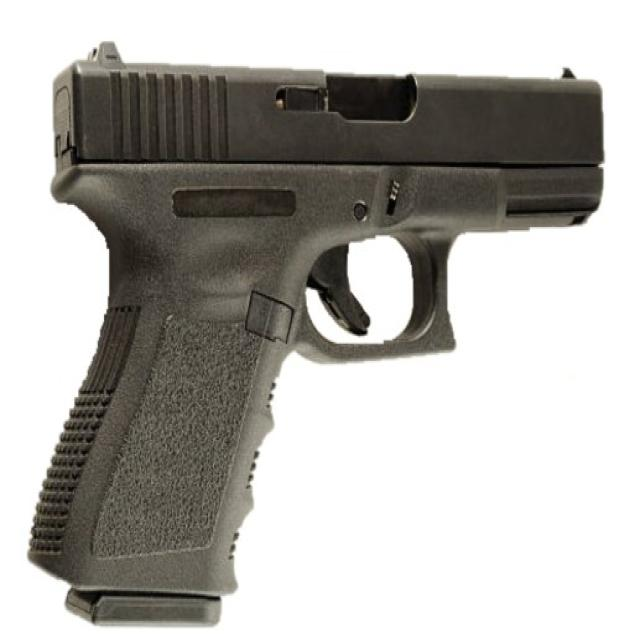pistol: (22, 38, 611, 629)
